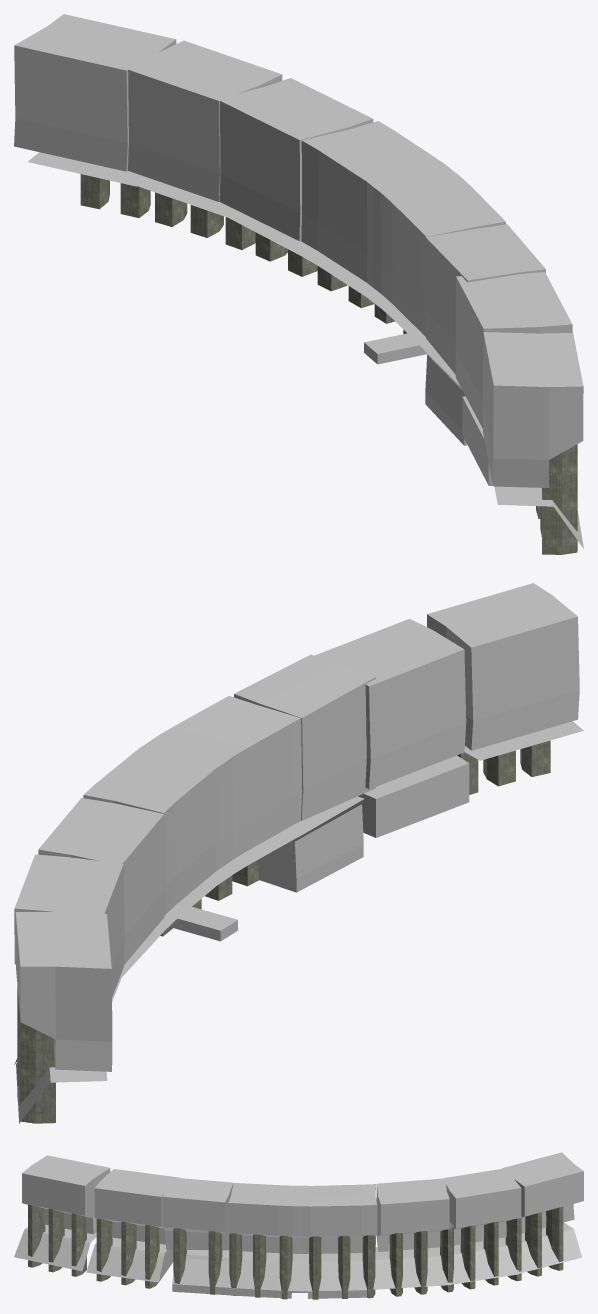
The model's file is SM_Corridor_07_06.fbx.
3 views of the same model, one above another, from view 1: azimuth 30°, elevation 25°; view 2: azimuth 150°, elevation 25°; view 3: azimuth 270°, elevation 25° (orthographic). The views are drawn at different scales.
Visible parts, largest first — view 1: SM_Corridor_07_06; view 2: SM_Corridor_07_06; view 3: SM_Corridor_07_06.
Part boxes in pixels (bbox=[...]): SM_Corridor_07_06: bbox=[14, 14, 583, 554]; SM_Corridor_07_06: bbox=[14, 583, 583, 1123]; SM_Corridor_07_06: bbox=[14, 1152, 583, 1299].
Bounding box in the file's own units: 4071 × 3320 × 18108.
